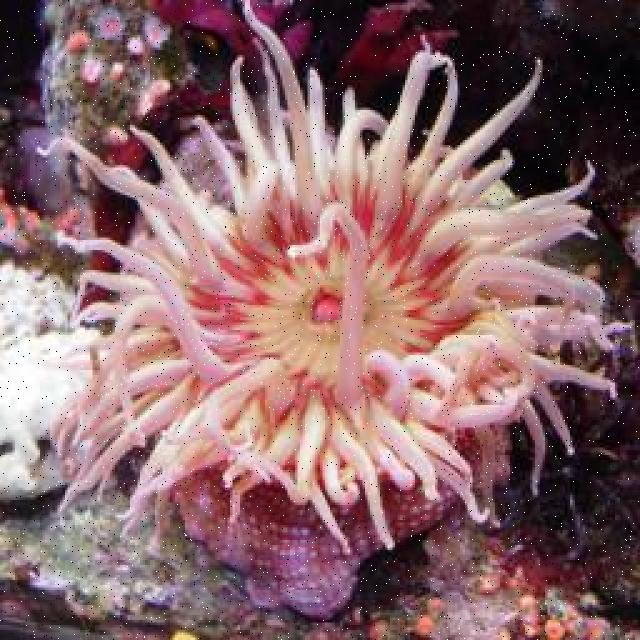reefs: (34, 3, 632, 622)
